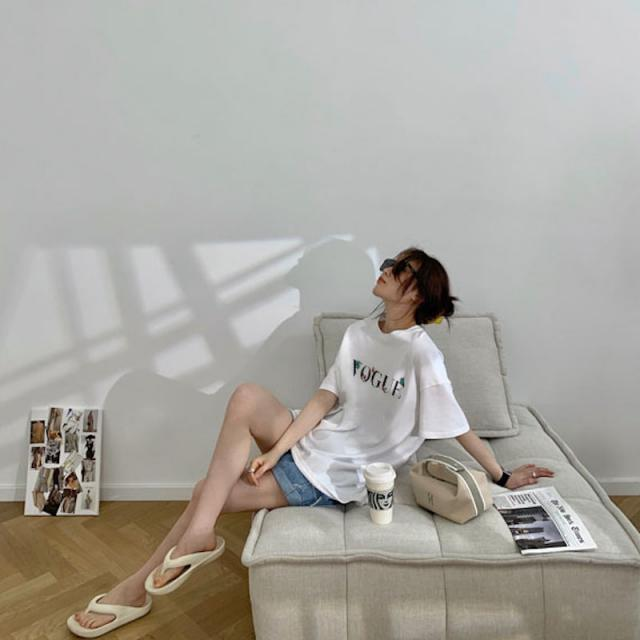shirt: (293, 311, 472, 504)
